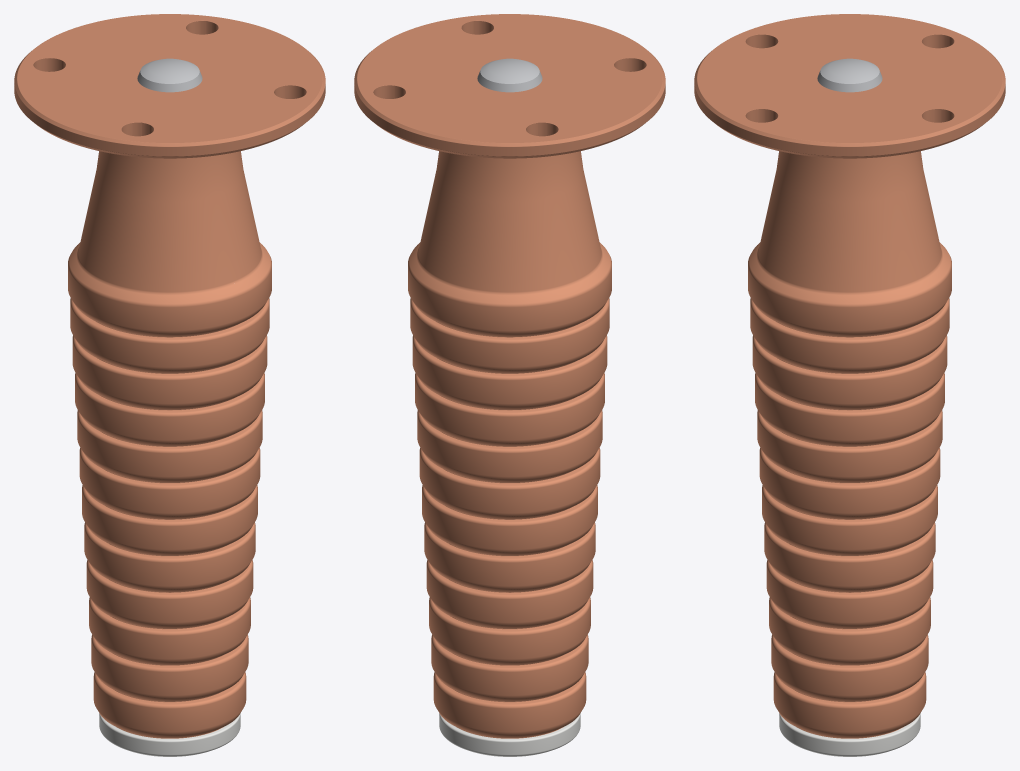
Rendered from sofa-legs-1508.glb.
The picture shows the model from 3 angles, left to right: view 1: azimuth 30°, elevation 25°; view 2: azimuth 150°, elevation 25°; view 3: azimuth 270°, elevation 25°; orthographic projection.
Visible parts, largest first — view 1: Body, Plate, Screw; view 2: Body, Plate, Screw; view 3: Body, Plate, Screw.
Part boxes in pixels (<box>): Body: <box>68,151,271,756</box>; Plate: <box>14,14,325,158</box>; Screw: <box>137,58,202,92</box>; Body: <box>408,151,611,756</box>; Plate: <box>354,14,665,158</box>; Screw: <box>477,58,542,92</box>; Body: <box>748,151,951,756</box>; Plate: <box>694,14,1005,158</box>; Screw: <box>817,58,882,92</box>.
Size of the model in its own units: 0.044 by 0.1035 by 0.044.
